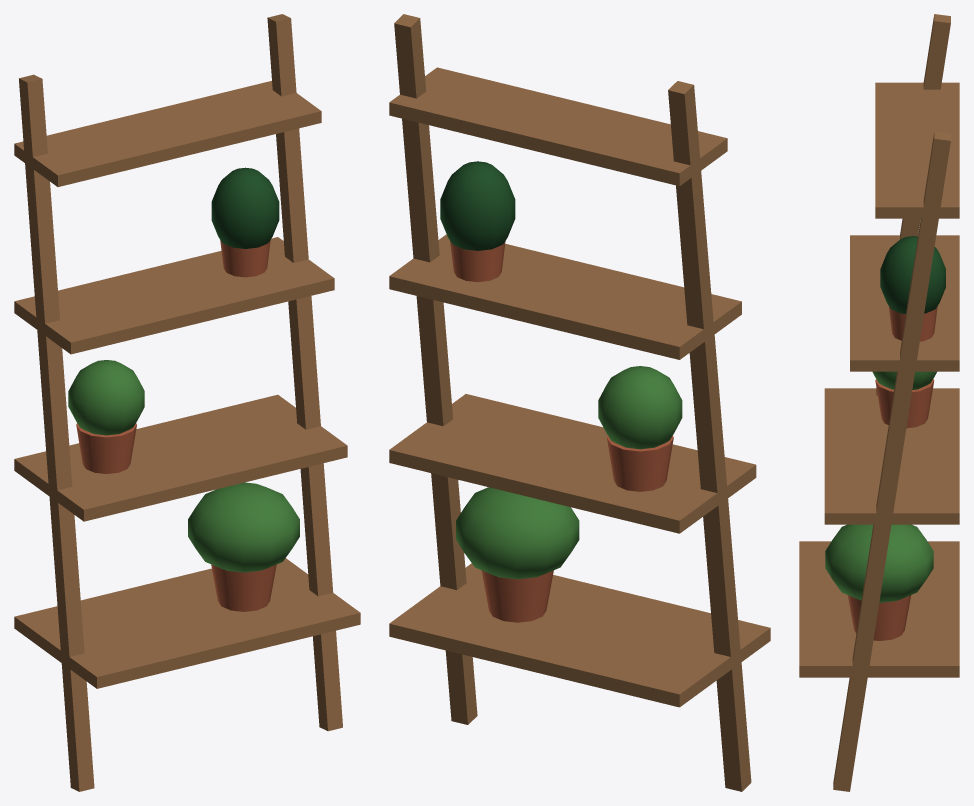
File: ladder_shelf.glb
The picture shows the model from 3 angles, left to right: view 1: azimuth 30°, elevation 25°; view 2: azimuth 150°, elevation 25°; view 3: azimuth 270°, elevation 25°; orthographic projection. The views are drawn at different scales.
Parts seen in each view (by area): view 1: Part2, Part3, Part4, Part0, Part5, Part1, Part11, Part7, Part9, Part10, Part6, Part8; view 2: Part2, Part3, Part4, Part0, Part5, Part1, Part11, Part7, Part9, Part10, Part6, Part8; view 3: Part3, Part2, Part1, Part5, Part4, Part11, Part9, Part0, Part10, Part6, Part8, Part7.
Boxes of the visible parts, x1,y1,x2,y2 form: Part2: [14, 558, 360, 688]; Part3: [14, 394, 347, 521]; Part4: [14, 237, 334, 354]; Part0: [19, 74, 94, 791]; Part5: [14, 81, 321, 186]; Part1: [267, 14, 342, 731]; Part11: [188, 482, 299, 572]; Part7: [68, 360, 144, 435]; Part9: [211, 167, 279, 248]; Part10: [211, 564, 276, 611]; Part6: [76, 423, 136, 473]; Part8: [220, 240, 270, 277]; Part2: [389, 563, 770, 707]; Part3: [389, 394, 756, 533]; Part4: [389, 234, 741, 359]; Part0: [668, 81, 751, 791]; Part5: [389, 67, 727, 186]; Part1: [394, 14, 477, 724]; Part11: [456, 487, 579, 579]; Part7: [598, 366, 682, 449]; Part9: [440, 161, 515, 250]; Part10: [481, 570, 553, 622]; Part6: [607, 436, 673, 491]; Part8: [450, 241, 505, 282]; Part3: [824, 388, 959, 524]; Part2: [799, 541, 959, 677]; Part1: [833, 131, 950, 791]; Part5: [875, 82, 959, 218]; Part4: [850, 235, 959, 371]; Part11: [825, 524, 933, 602]; Part9: [880, 236, 945, 313]; Part0: [876, 14, 950, 395]; Part10: [847, 595, 911, 640]; Part6: [875, 379, 934, 428]; Part8: [889, 306, 937, 341]; Part7: [872, 371, 936, 389].
Bounding box in the file's own units: 0.7 × 1.71 × 0.38.
